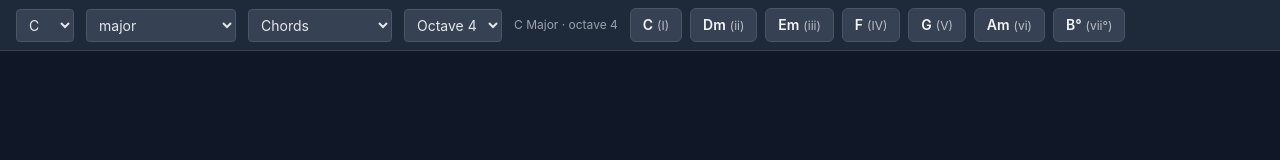
Test: ScalePalette › follows the palette scale in the store
Select "G" in the dropdown named "Root Note" at (45, 25), box x1=16 y1=8 x2=74 y2=42
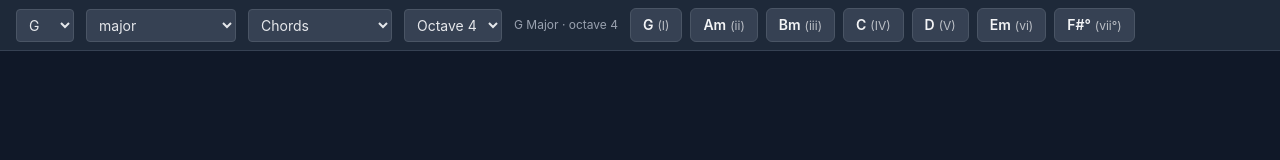
Expected: the element showing "G (I)" is shown, x1=630 y1=8 x2=682 y2=42
